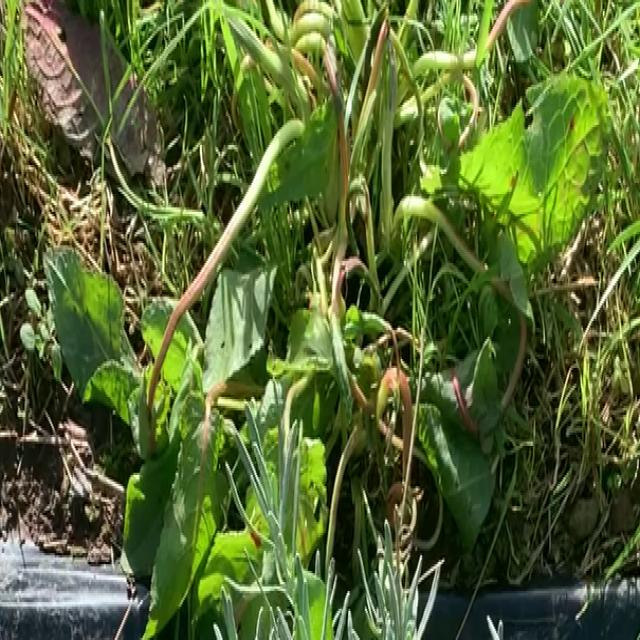organic waste: (76, 0, 595, 591)
